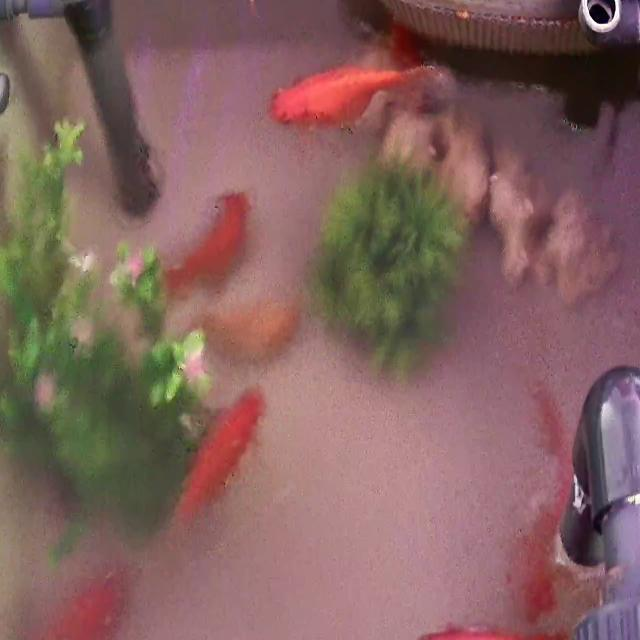fish: (171, 387, 266, 530), (515, 387, 576, 588), (163, 189, 251, 296), (7, 564, 130, 640), (286, 63, 406, 126), (189, 298, 297, 364)
